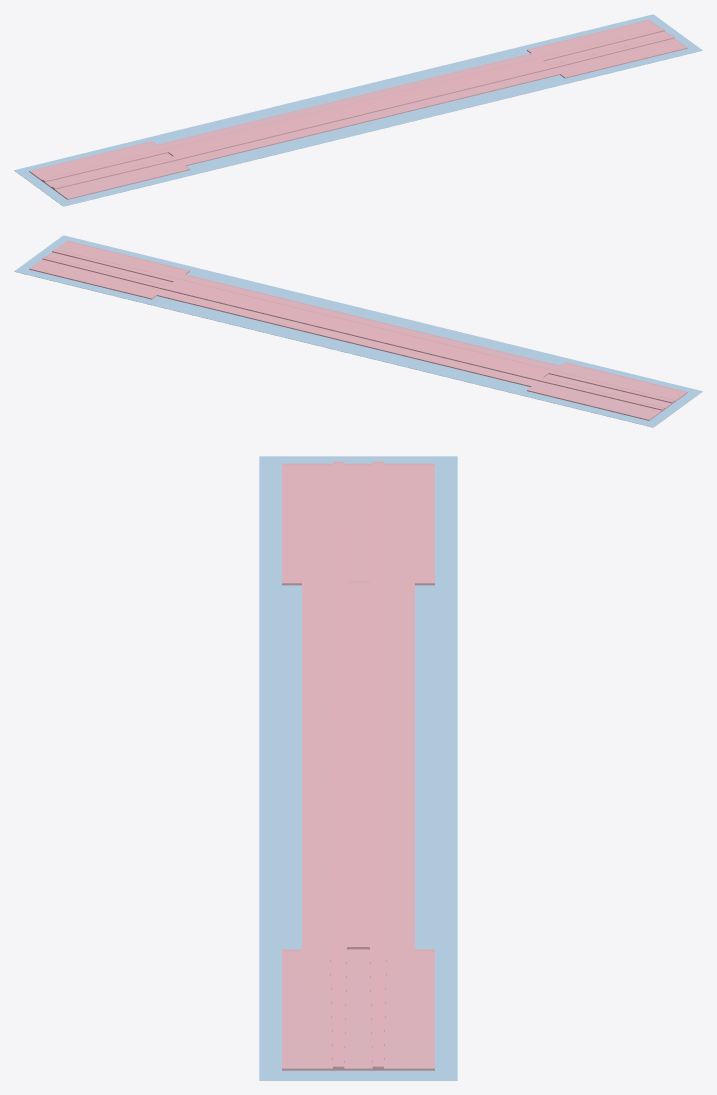
The model's file is lxt-mmi2x2.glb.
The picture shows the model from 3 angles, top to bottom: view 1: azimuth 30°, elevation 25°; view 2: azimuth 150°, elevation 25°; view 3: azimuth 270°, elevation 25°; orthographic projection. The views are drawn at different scales.
Visible parts, largest first — view 1: slab_0, box_top, ridge_0; view 2: slab_0, box_top, ridge_0; view 3: slab_0, box_top, ridge_0.
Boxes of the visible parts, x1,y1,x2,y2 form: slab_0: [29, 20, 687, 199]; box_top: [14, 14, 702, 206]; ridge_0: [42, 28, 674, 189]; slab_0: [29, 241, 687, 420]; box_top: [14, 235, 702, 427]; ridge_0: [42, 249, 674, 410]; slab_0: [282, 463, 434, 1070]; box_top: [259, 456, 457, 1080]; ridge_0: [330, 461, 386, 1068].
Size of the model in its own units: 130 by 0.44 by 17.5.
